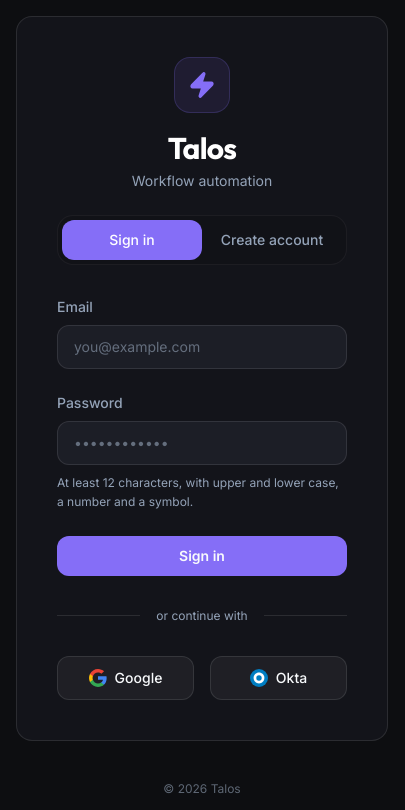
Test: AuthForm › transitions to 2FA step when login requires 2FA
Type "test@example.com" into the field with placeholder "you@example.com" at (202, 346), box x1=57 y1=324 x2=347 y2=368
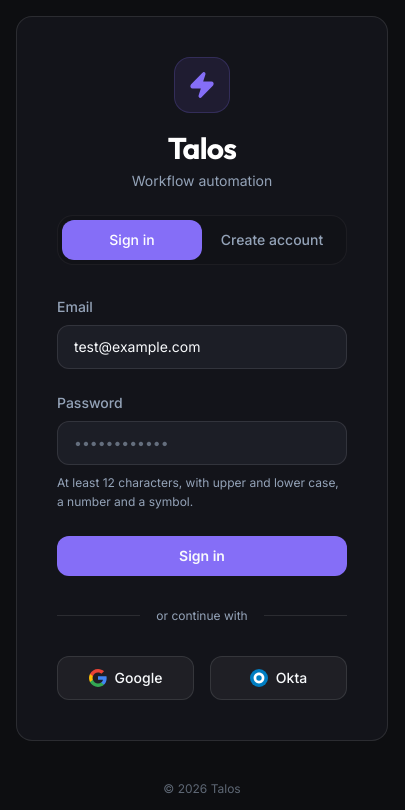
Type "password123" into the password field with placeholder "••••••••••••" at (202, 442), box x1=57 y1=420 x2=347 y2=464
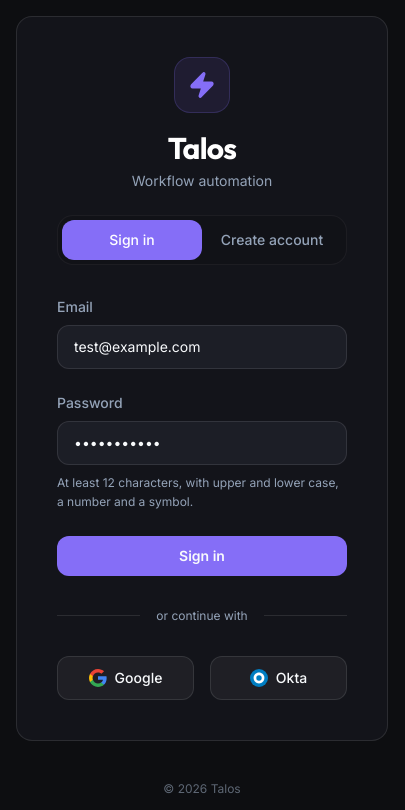
Click the button "Sign in" below "Password" at (202, 556), box x1=57 y1=536 x2=347 y2=576
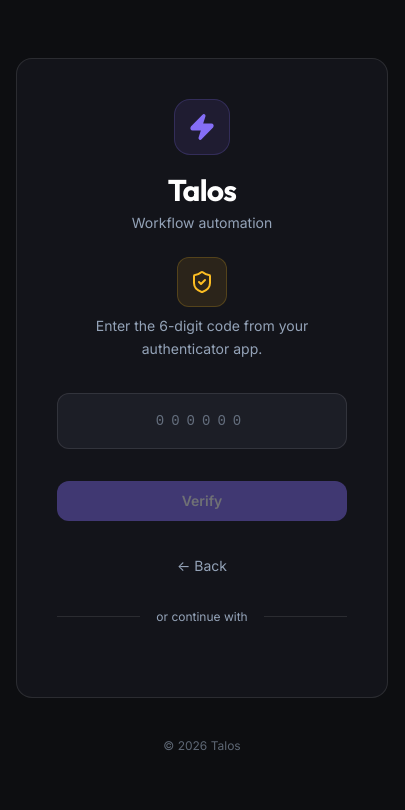
Now the text "Enter the 6-digit code from your authenticator app." is shown, box x1=96 y1=317 x2=308 y2=357
Now the field with placeholder "000000" is shown, box x1=57 y1=393 x2=347 y2=449
